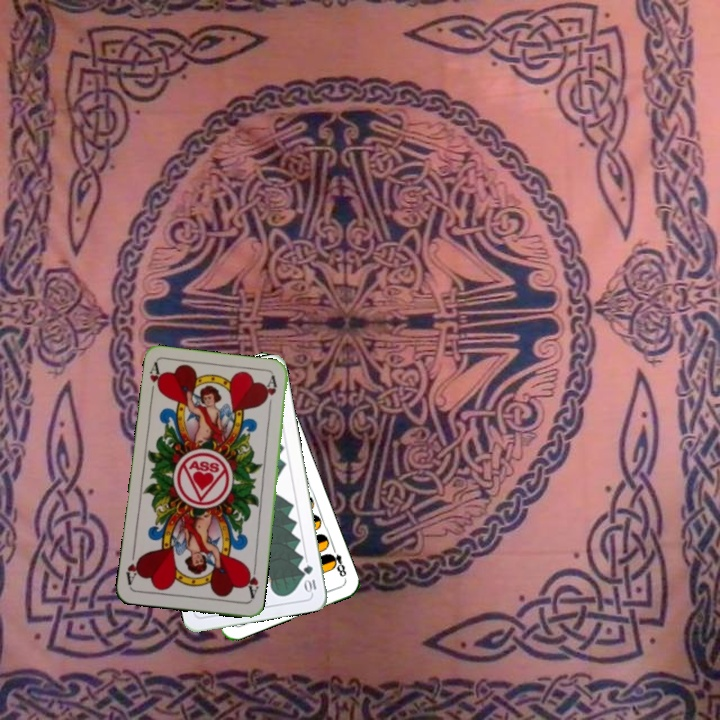E8: (324, 543, 349, 582)
G10: (300, 561, 319, 595)
HA: (145, 359, 165, 400), (241, 561, 261, 601)
